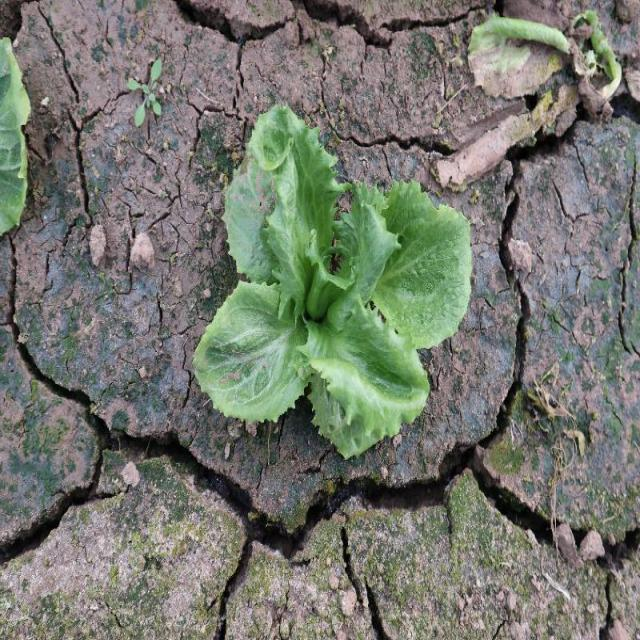crop: (192, 104, 475, 464)
